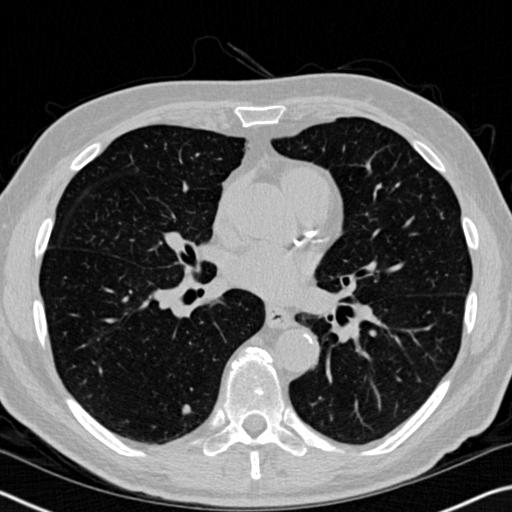nodule: (180, 403, 193, 416)
